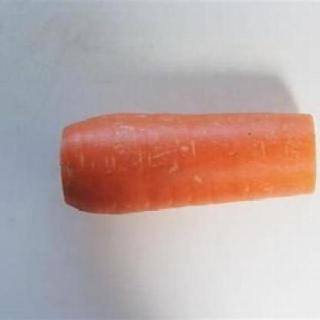carrot: (57, 103, 319, 226)
